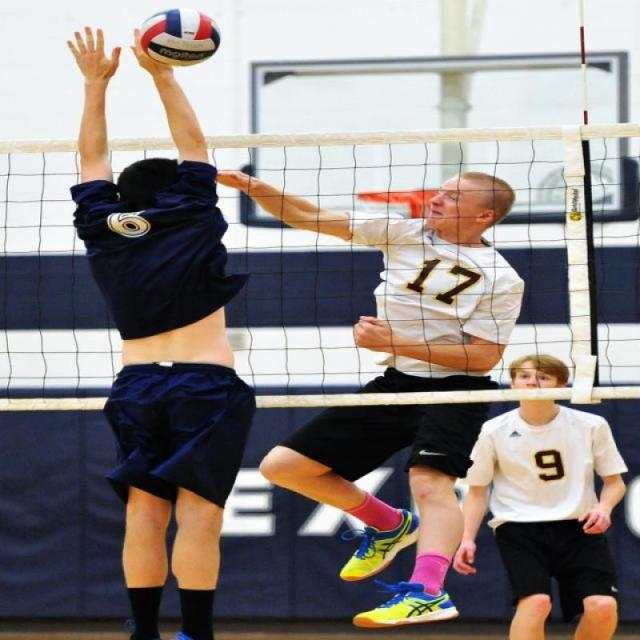volleyball: (138, 7, 219, 67)
